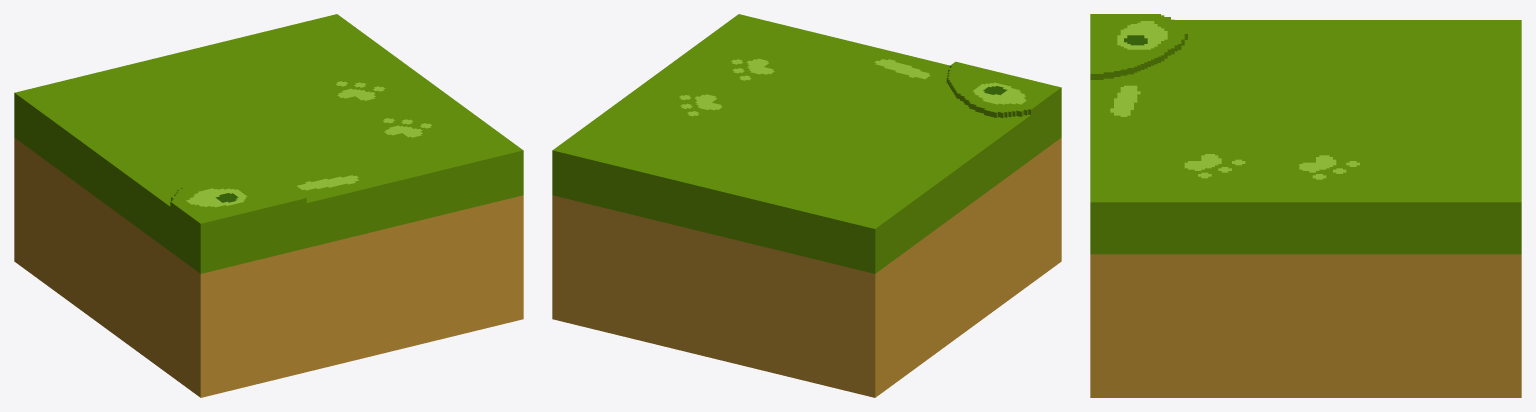
The picture shows the model from 3 angles, left to right: view 1: azimuth 30°, elevation 25°; view 2: azimuth 150°, elevation 25°; view 3: azimuth 270°, elevation 25°; orthographic projection. The views are drawn at different scales.
Visible parts, largest first — view 1: 16F; view 2: 16F; view 3: 16F.
Boxes of the visible parts, <box> form: 16F: <box>14,14,523,397</box>; 16F: <box>552,14,1061,397</box>; 16F: <box>1090,14,1521,397</box>.
Bounding box in the file's own units: 12.8 × 6.6 × 12.8.
1 material, 1 textured.
